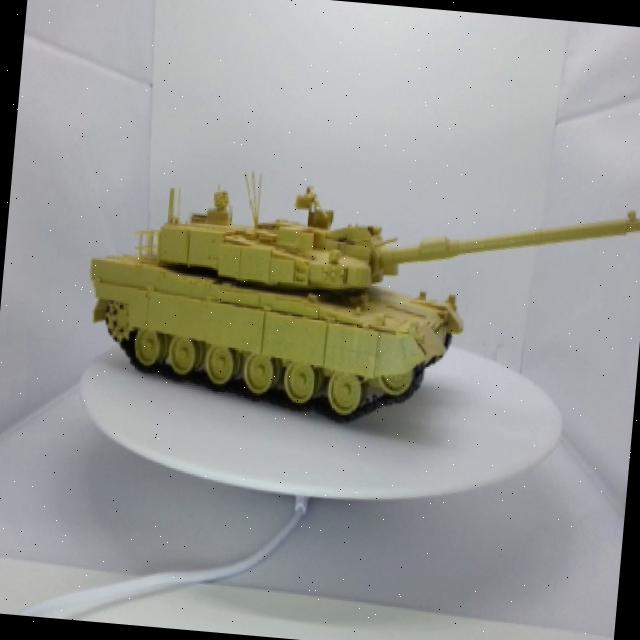korea tank: (48, 146, 640, 457)
